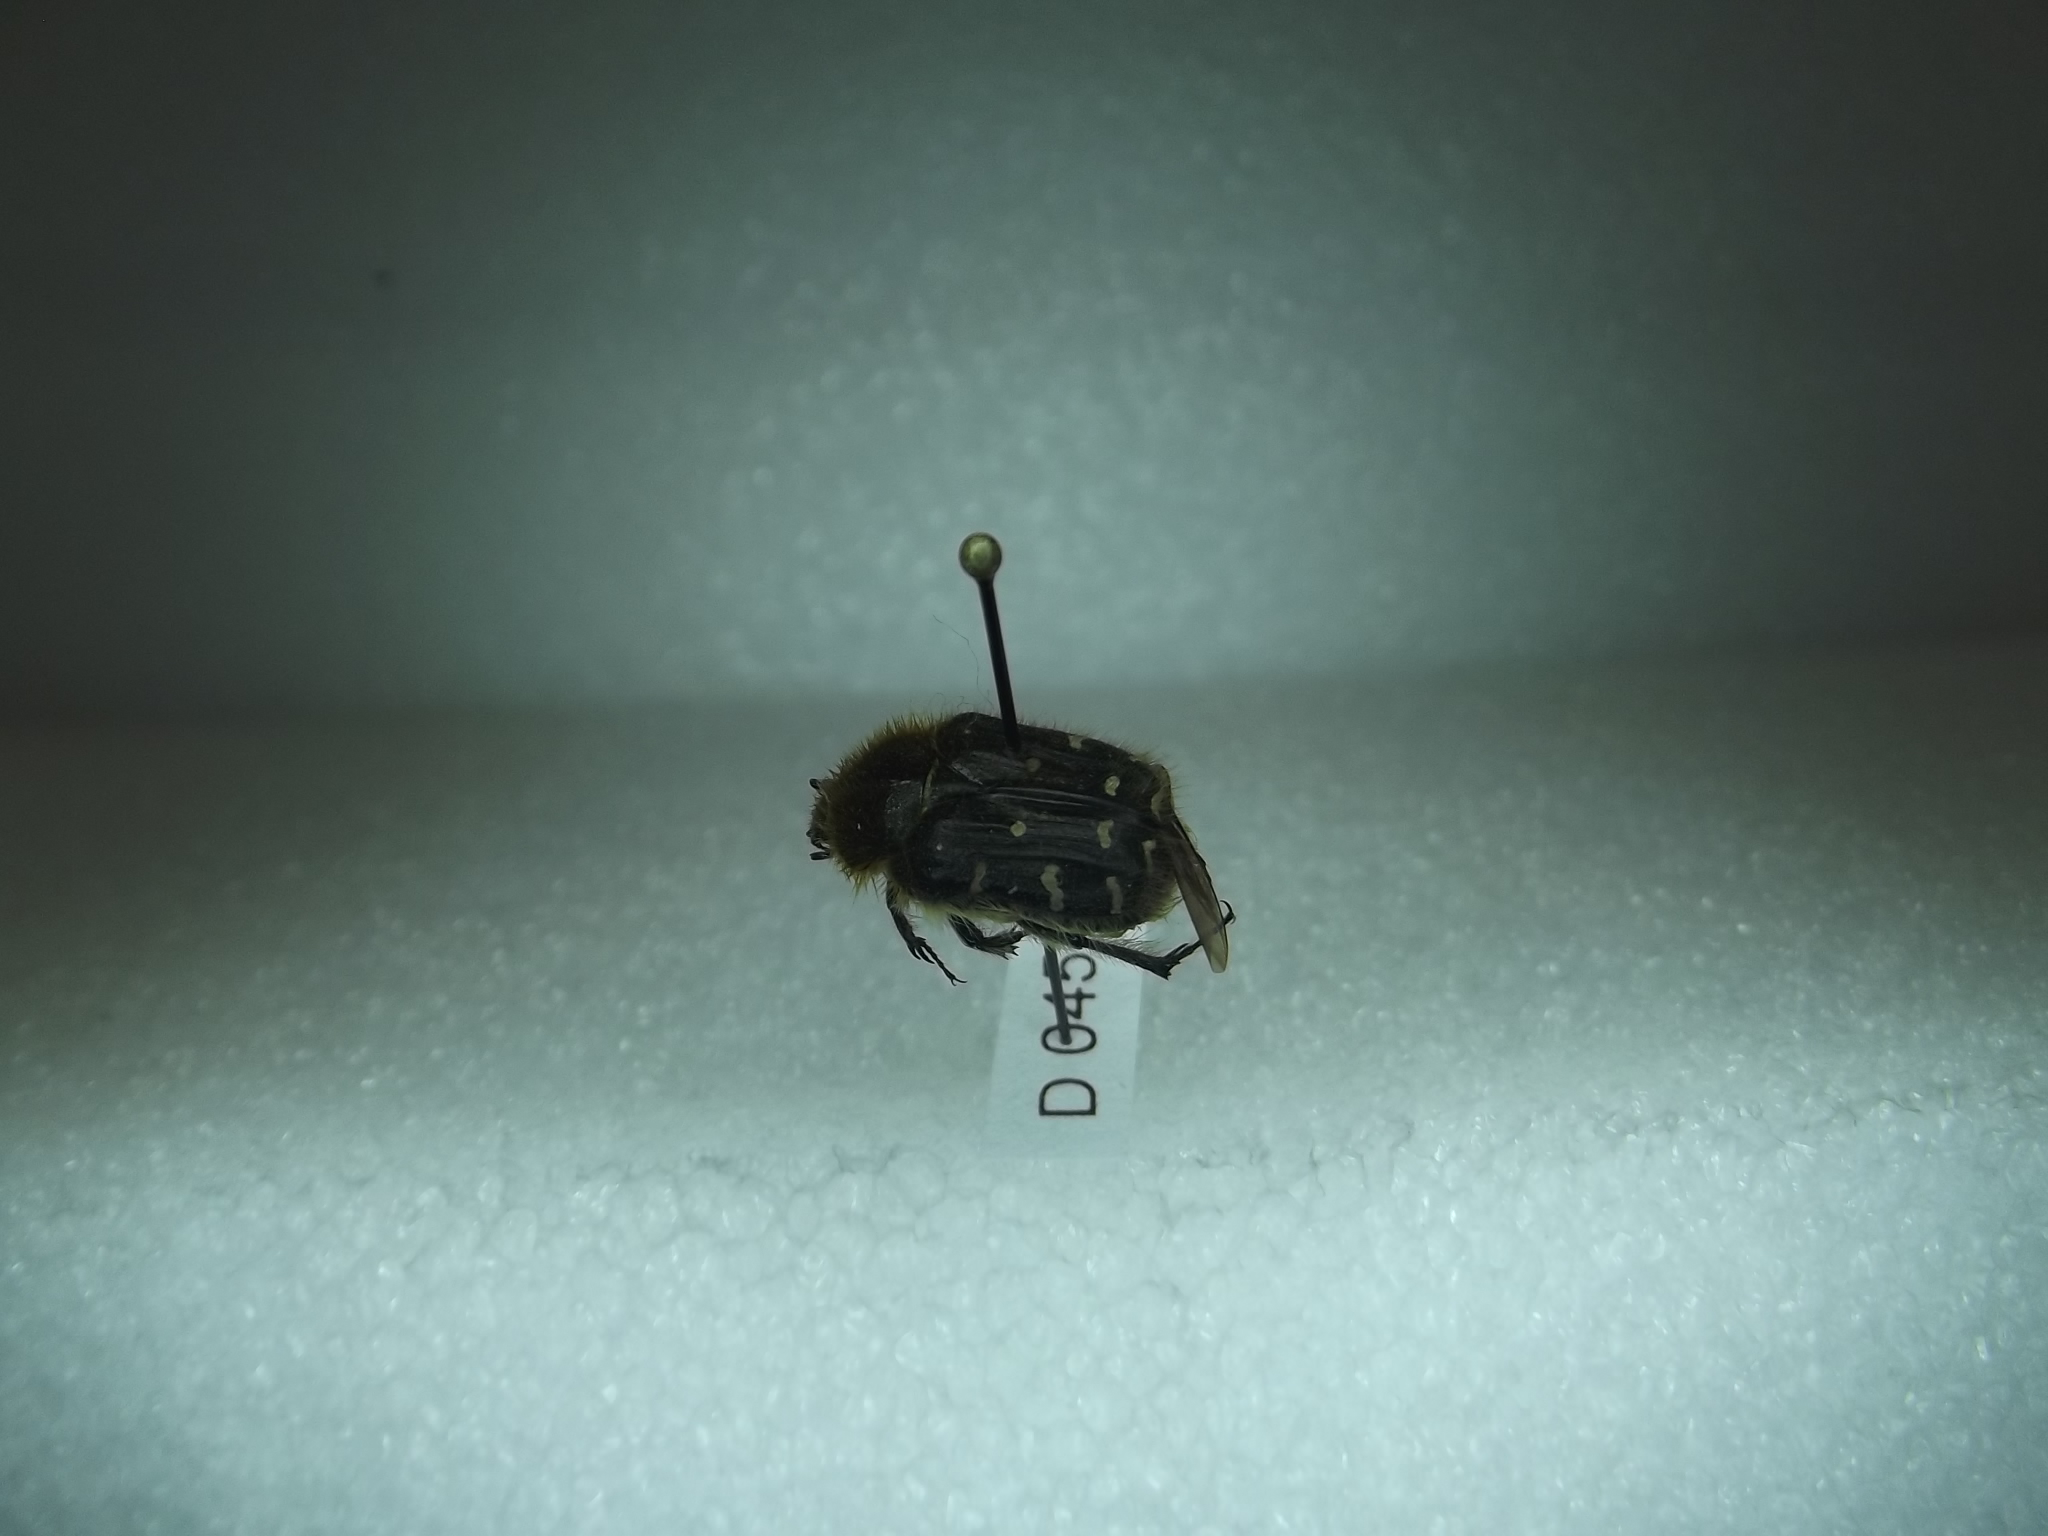Tropinota_hirta: (780, 687, 1264, 1005)
